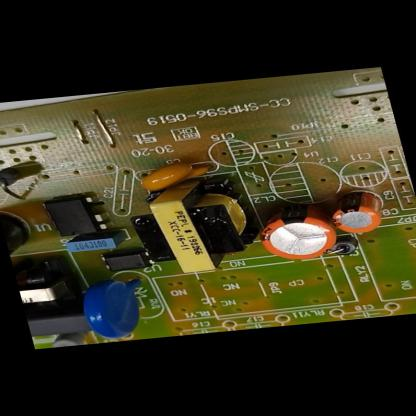Cap1: (253, 207, 341, 263)
Cap2: (326, 191, 389, 235)
Cap3: (0, 210, 39, 272)
MOSFET: (40, 195, 104, 238)
Mov: (76, 277, 154, 340)
Resistor: (53, 334, 89, 347)
Transformer: (132, 179, 262, 276), (15, 270, 63, 312)
